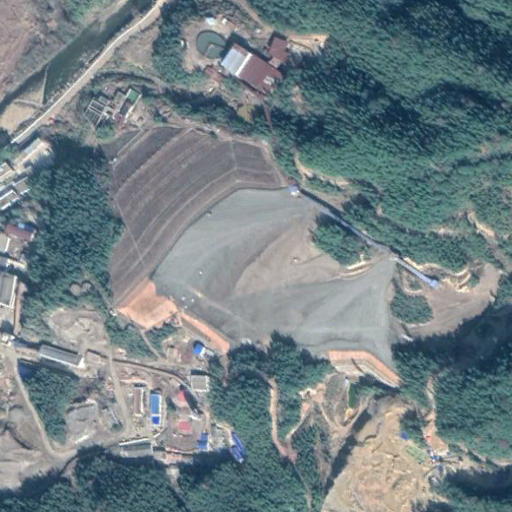tp: (101, 124, 500, 388)
